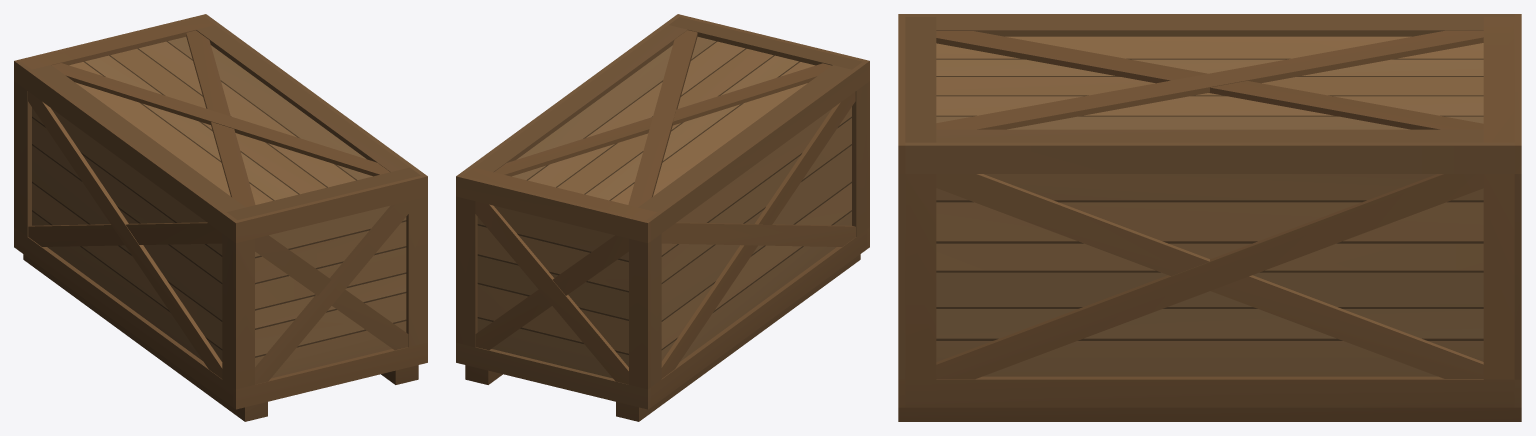
Rendered from crate.wood_long.x_brace.glb.
The picture shows the model from 3 angles, left to right: view 1: azimuth 30°, elevation 25°; view 2: azimuth 150°, elevation 25°; view 3: azimuth 270°, elevation 25°; orthographic projection. The views are drawn at different scales.
Visible parts, largest first — view 1: crate_wood_long_x_brace; view 2: crate_wood_long_x_brace; view 3: crate_wood_long_x_brace.
Boxes of the visible parts, x1,y1,x2,y2 form: crate_wood_long_x_brace: [14, 14, 427, 421]; crate_wood_long_x_brace: [456, 14, 869, 421]; crate_wood_long_x_brace: [898, 14, 1521, 421].
Size of what is drawn, in the model's own units: 1.1 by 1.1 by 2.2.
